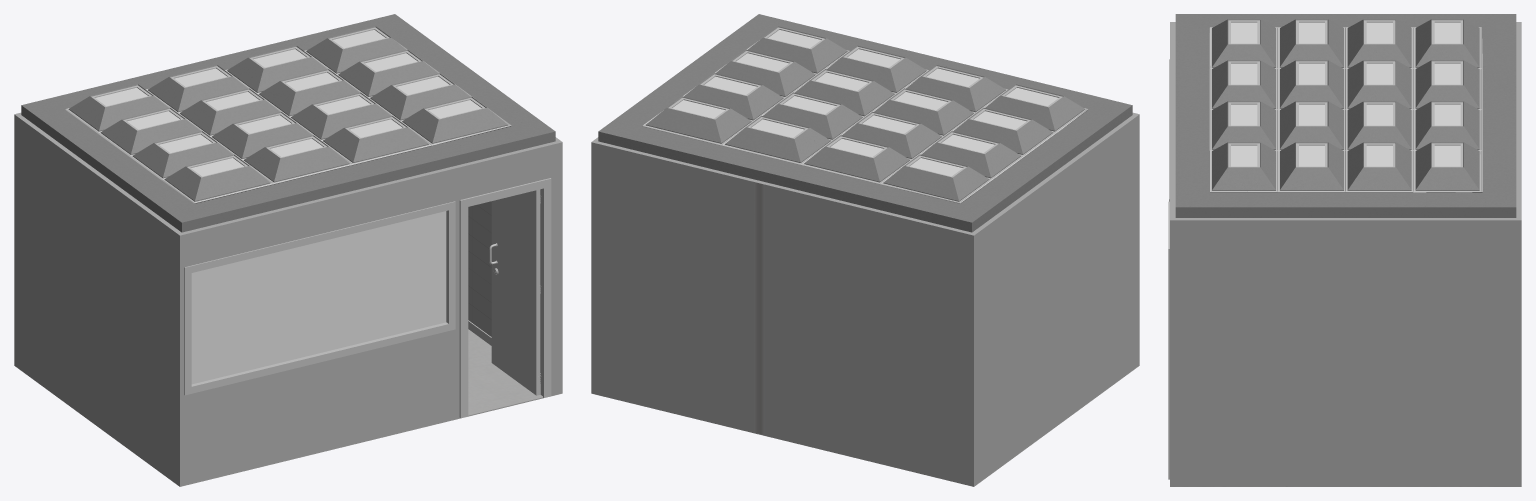
The model's file is SM_Room.fbx.
3 views of the same model, side by side, from view 1: azimuth 30°, elevation 25°; view 2: azimuth 150°, elevation 25°; view 3: azimuth 270°, elevation 25° (orthographic). The views are drawn at different scales.
Visible parts, largest first — view 1: Pared, Techo.002, Espejo-cristal, TechoJunta, Puerta, Techo.lights, Marco-espejo, Marco-puerta, Techo.frames, Suelo, Techo; view 2: Pared, Techo.002, TechoJunta, Techo.lights, Techo.frames, Techo, Suelo; view 3: Pared, Techo.002, TechoJunta, Techo.lights, Techo.frames, Techo, Marco-puerta.
Boxes of the visible parts, x1=… form: Pared: x1=14, y1=112, x2=562, y2=485; Techo.002: x1=68, y1=26, x2=507, y2=201; Espejo-cristal: x1=191, y1=211, x2=446, y2=384; TechoJunta: x1=21, y1=14, x2=555, y2=232; Puerta: x1=491, y1=189, x2=540, y2=395; Techo.lights: x1=95, y1=30, x2=481, y2=176; Marco-espejo: x1=184, y1=201, x2=455, y2=395; Marco-puerta: x1=459, y1=178, x2=551, y2=418; Techo.frames: x1=91, y1=27, x2=485, y2=177; Suelo: x1=14, y1=329, x2=562, y2=486; Techo: x1=65, y1=40, x2=511, y2=203; Pared: x1=591, y1=112, x2=1139, y2=485; Techo.002: x1=646, y1=26, x2=1085, y2=201; TechoJunta: x1=598, y1=14, x2=1132, y2=232; Techo.lights: x1=672, y1=30, x2=1058, y2=176; Techo.frames: x1=668, y1=27, x2=1062, y2=177; Techo: x1=642, y1=33, x2=1088, y2=203; Suelo: x1=591, y1=365, x2=1139, y2=486; Pared: x1=1170, y1=22, x2=1521, y2=485; Techo.002: x1=1212, y1=19, x2=1479, y2=190; TechoJunta: x1=1175, y1=14, x2=1516, y2=217; Techo.lights: x1=1231, y1=22, x2=1460, y2=166; Techo.frames: x1=1228, y1=20, x2=1463, y2=167; Techo: x1=1209, y1=27, x2=1482, y2=192; Marco-puerta: x1=1168, y1=201, x2=1169, y2=479.
Bounding box in the file's own units: 400 × 277 × 302.
